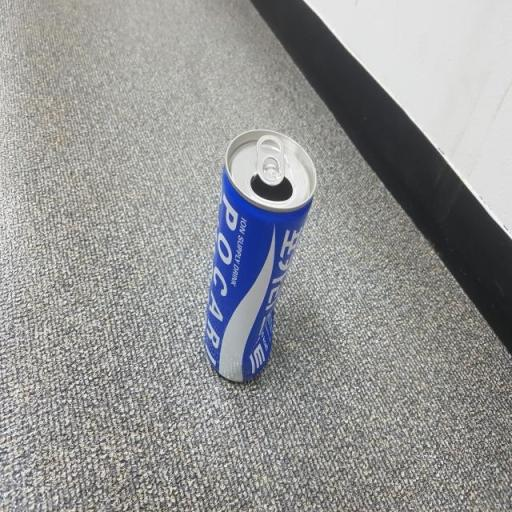metal: (177, 112, 344, 424)
